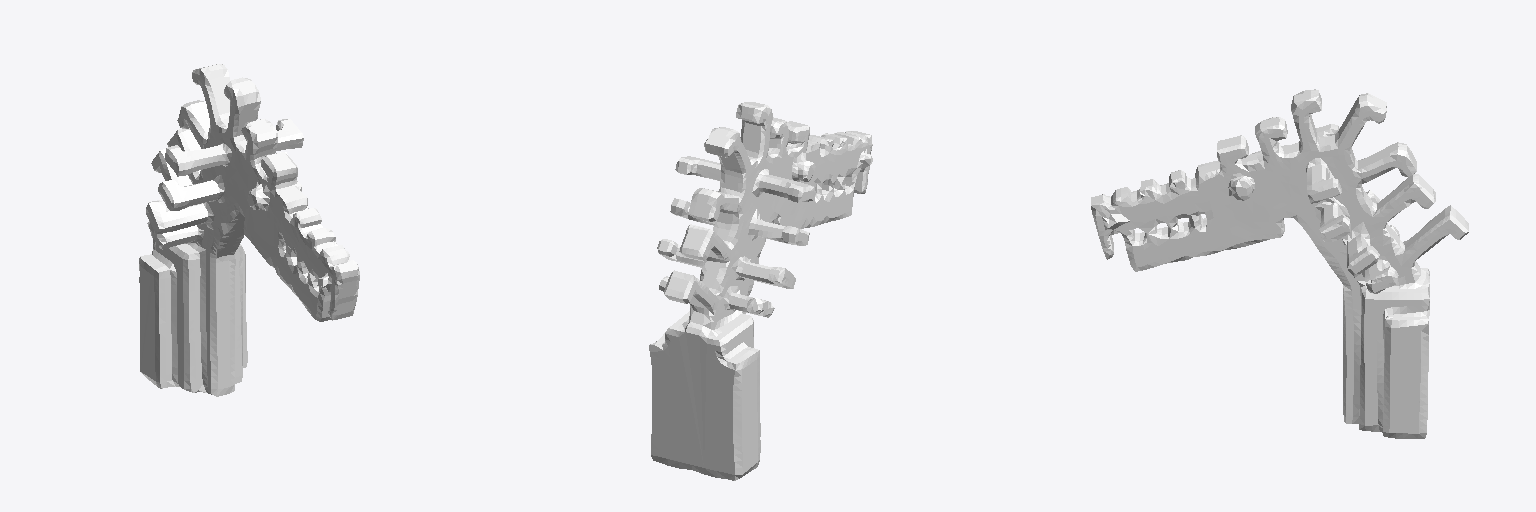
The model's file is Statue04.Obj.
The picture shows the model from 3 angles: view 1: azimuth 30°, elevation 25°; view 2: azimuth 150°, elevation 25°; view 3: azimuth 270°, elevation 25°; orthographic projection.
Visible parts, largest first — view 1: Volume10; view 2: Volume10; view 3: Volume10.
Boxes of the visible parts, <box> form: Volume10: <box>139,64,359,396</box>; Volume10: <box>649,102,872,480</box>; Volume10: <box>1091,89,1468,438</box>.
Size of the model in its own units: 92.72 by 231 by 242.